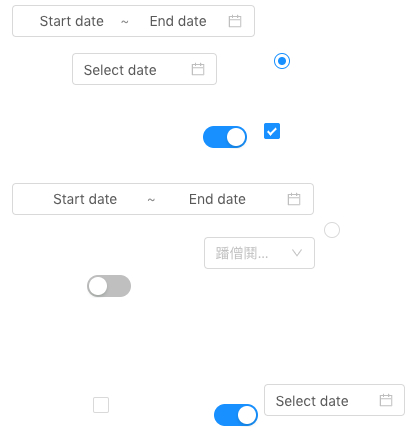Checkbox: (264, 120, 280, 141), (93, 394, 109, 415)
DatePicker: (72, 53, 217, 85), (264, 384, 405, 416)
Radio: (274, 50, 290, 70), (324, 219, 340, 239)
RangePicker: (12, 183, 314, 215), (12, 5, 255, 37)
Select: (204, 237, 315, 269)
Switch: (203, 125, 247, 149), (87, 274, 131, 298), (214, 403, 258, 427)
